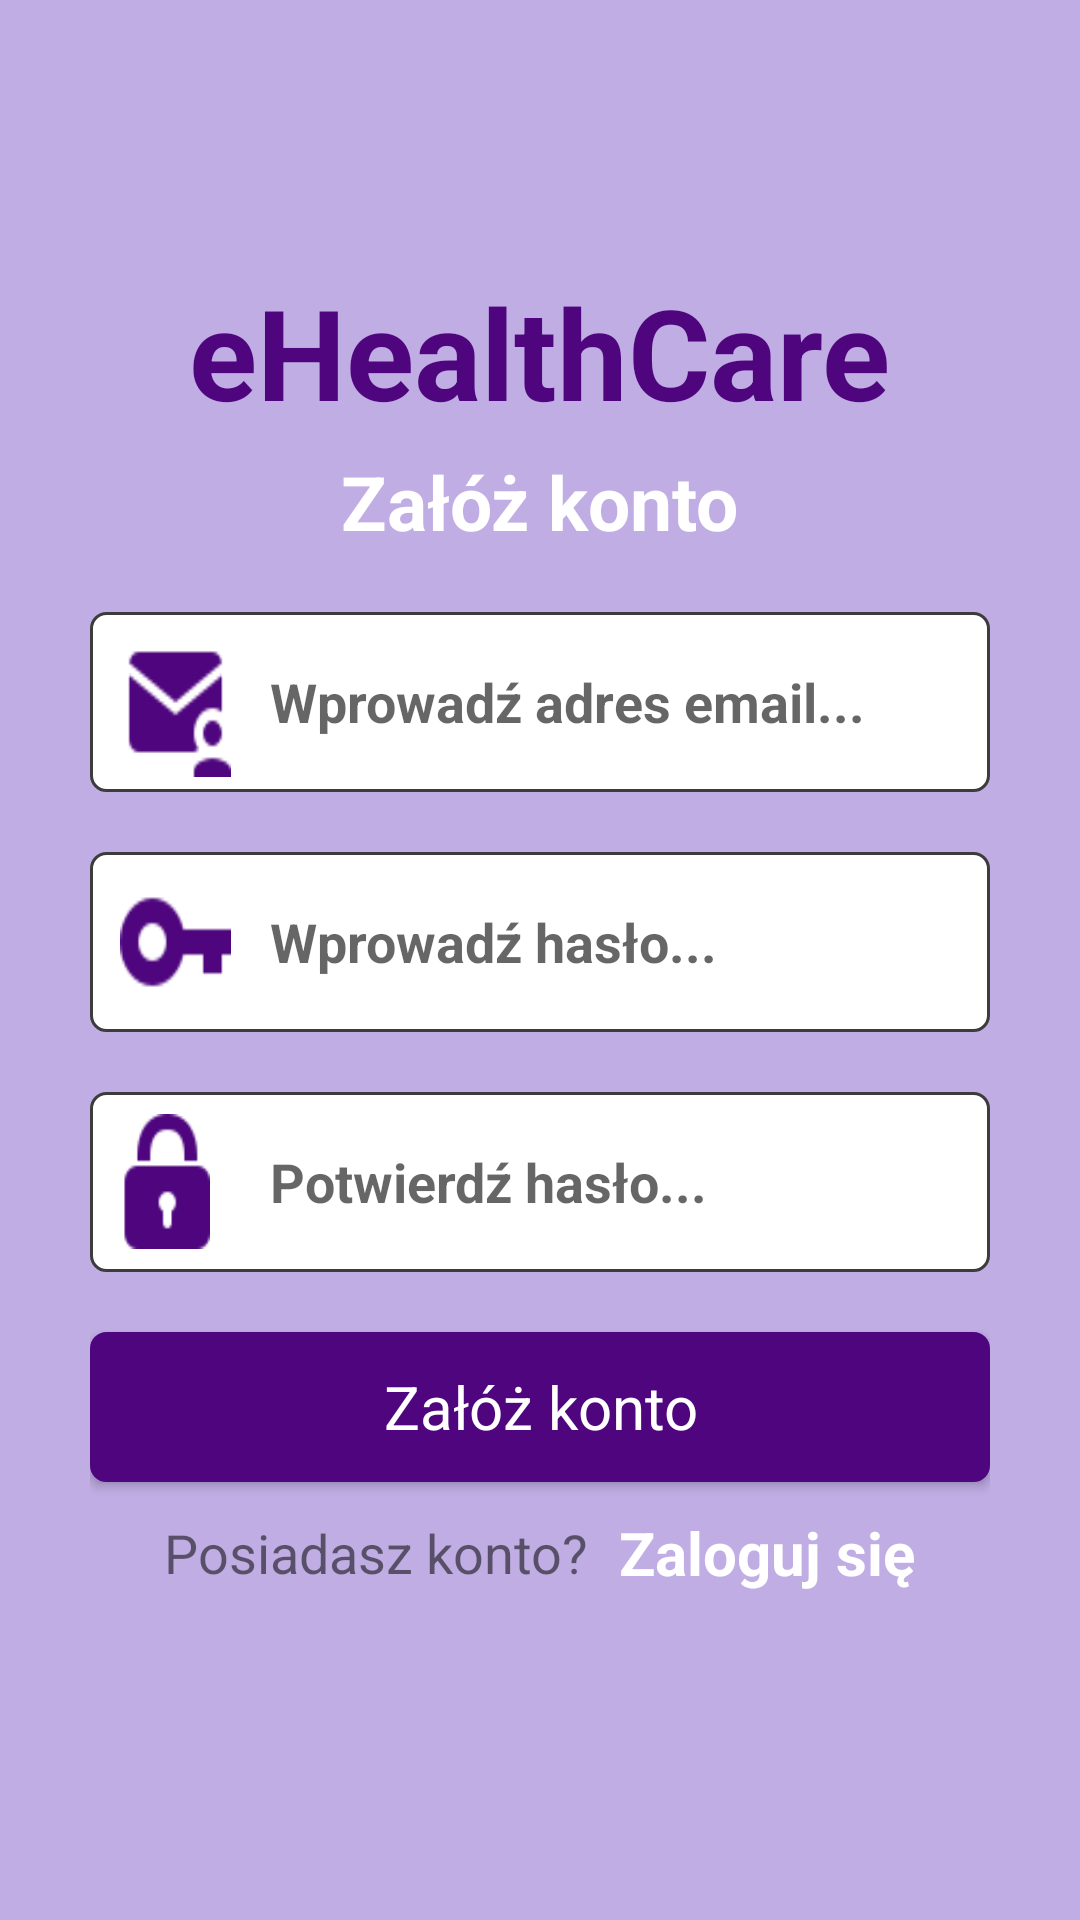

Named icons in this screenshot (1080 × 1920) and their centers, point (x, y):
lock: point (167, 1181)
password: point (175, 942)
